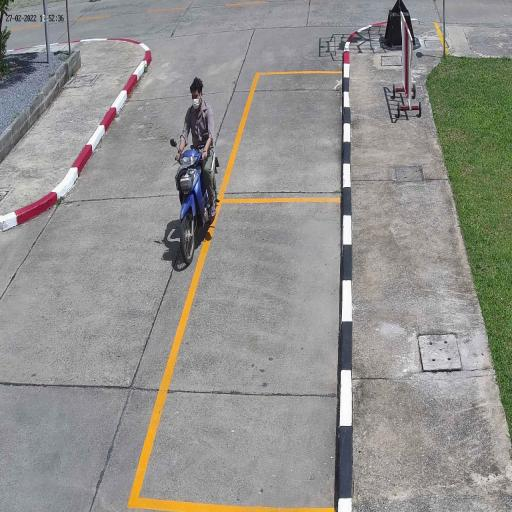motorcycle: (174, 149, 220, 265)
